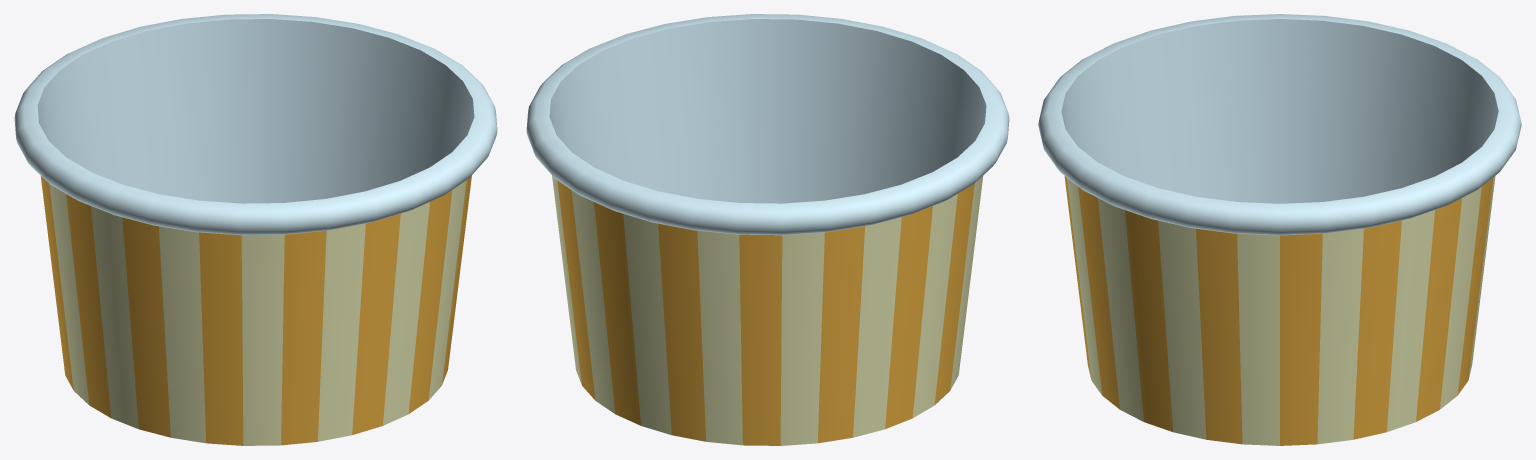
File: Cup Ice Cream K.fbx
3 views of the same model, side by side, from view 1: azimuth 30°, elevation 25°; view 2: azimuth 150°, elevation 25°; view 3: azimuth 270°, elevation 25° (orthographic).
Parts seen in each view (by area): view 1: Cup Ice Cream K; view 2: Cup Ice Cream K; view 3: Cup Ice Cream K.
Boxes of the visible parts, x1,y1,x2,y2 form: Cup Ice Cream K: (14, 14, 497, 445); Cup Ice Cream K: (526, 14, 1009, 445); Cup Ice Cream K: (1038, 14, 1521, 445).
Size of the model in its own units: 0.7274 by 0.4205 by 0.7274.
